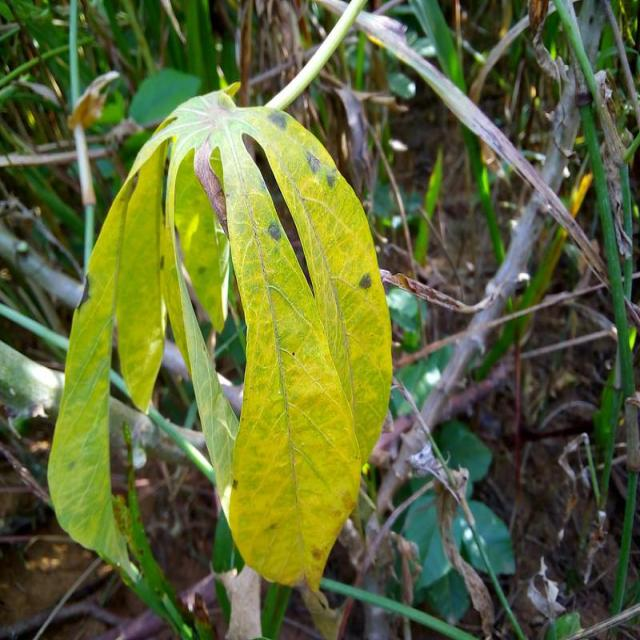cassava leaf: (46, 83, 394, 600)
